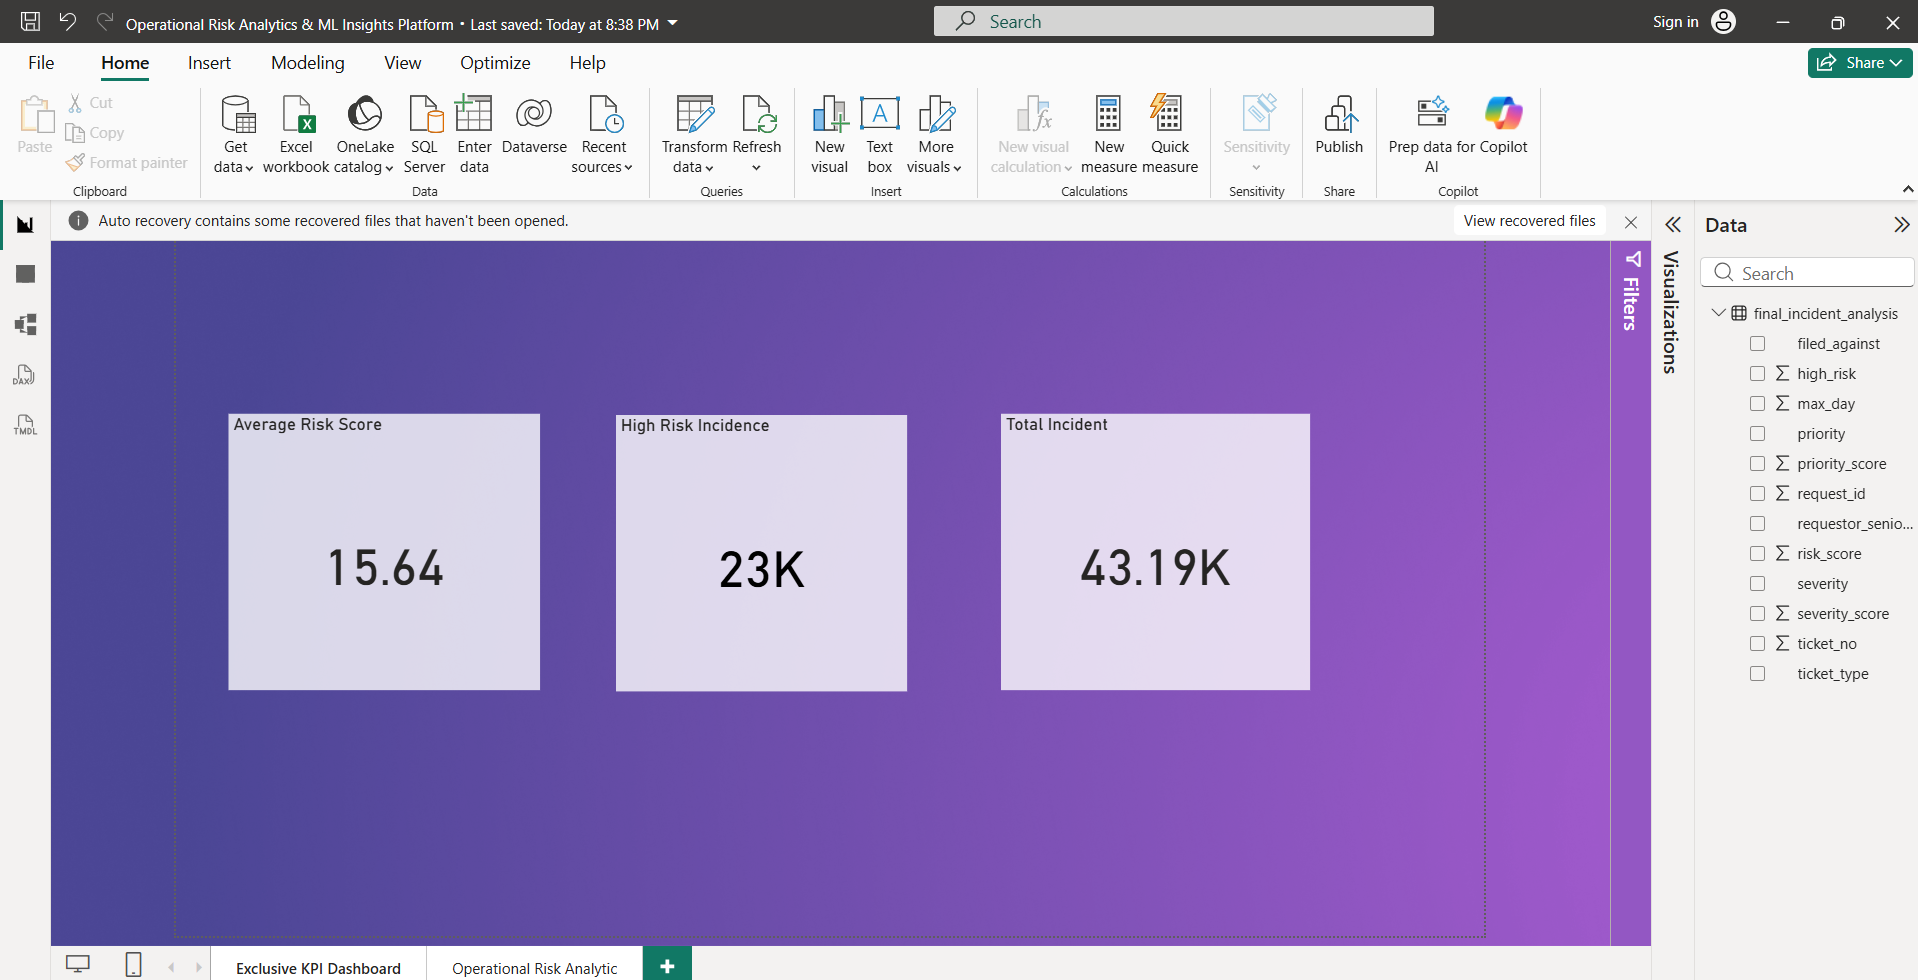

What the dashboard file says about the page in this screenshot:
{"tool":"powerbi","page":{"name":"Exclusive KPI Dashboard ","canvas":[1280,720],"ordinal":0},"visuals":[{"type":"card","title":"Average  Risk Score","fields":{"Values":["Avg(final_incident_analysis.risk_score)"]},"box":[51.4,209.1,304.5,270.2],"z":0},{"type":"card","title":"High Risk Incidence","fields":{"Values":["Sum(final_incident_analysis.high_risk)"]},"box":[430.4,210.3,284.9,270.2],"z":1000},{"type":"card","title":"Total Incident","fields":{"Values":["CountNonNull(final_incident_analysis.ticket_no)"]},"box":[807.1,209.1,302,270.2],"z":2000}]}

Visuals, with their boxes on the page's 1280x720 design canvas (x1, y1, x2, y2). These are canvas units, not pixel positions in the 1918x980 screenshot, which may show the page scaled, cropped or inside an application window:
"Average  Risk Score" card: (x1=51, y1=209, x2=356, y2=479)
"High Risk Incidence" card: (x1=430, y1=210, x2=715, y2=480)
"Total Incident" card: (x1=807, y1=209, x2=1109, y2=479)
